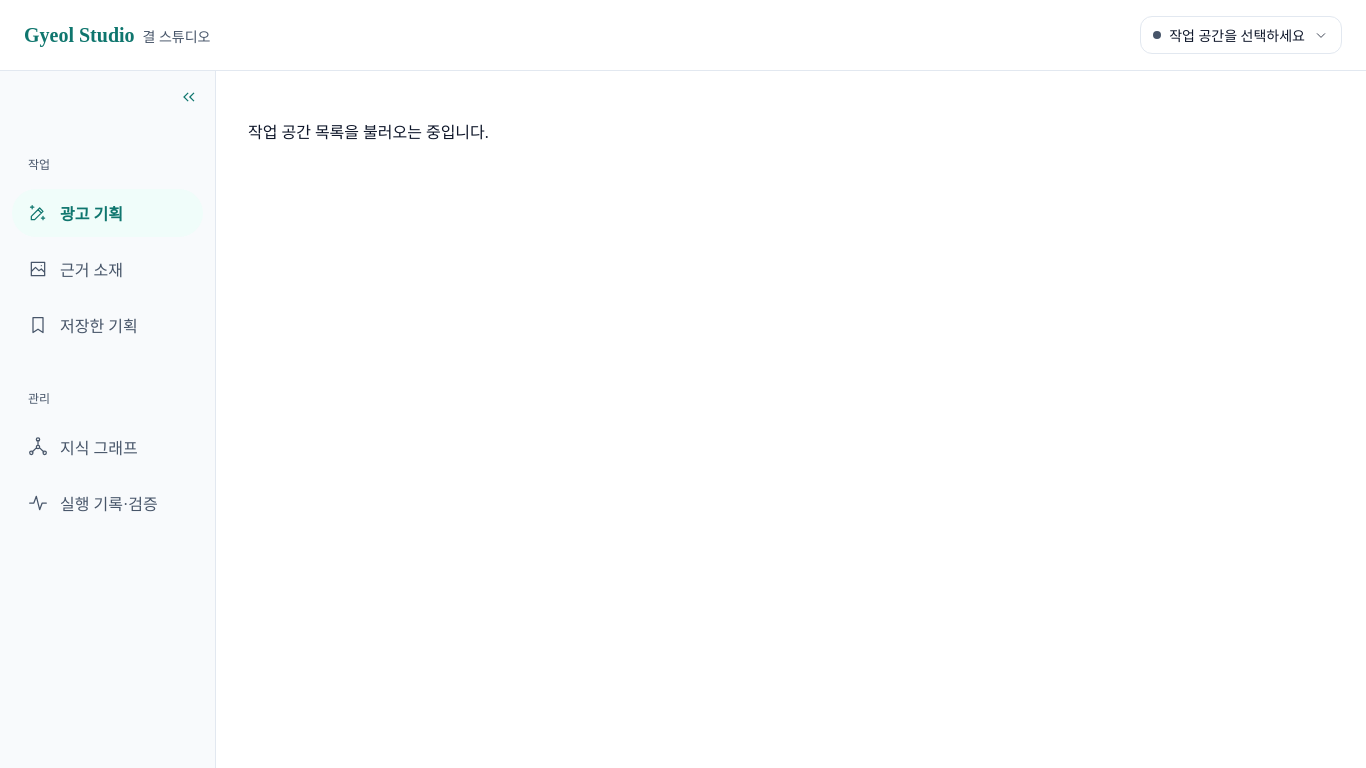
Test: loads workspace metadata with no headers and renders API failure
Later steps or results of the test are not shown.
Click the button "작업 공간을 선택하세요".
click(1241, 35)  # box [1140,16,1342,54]
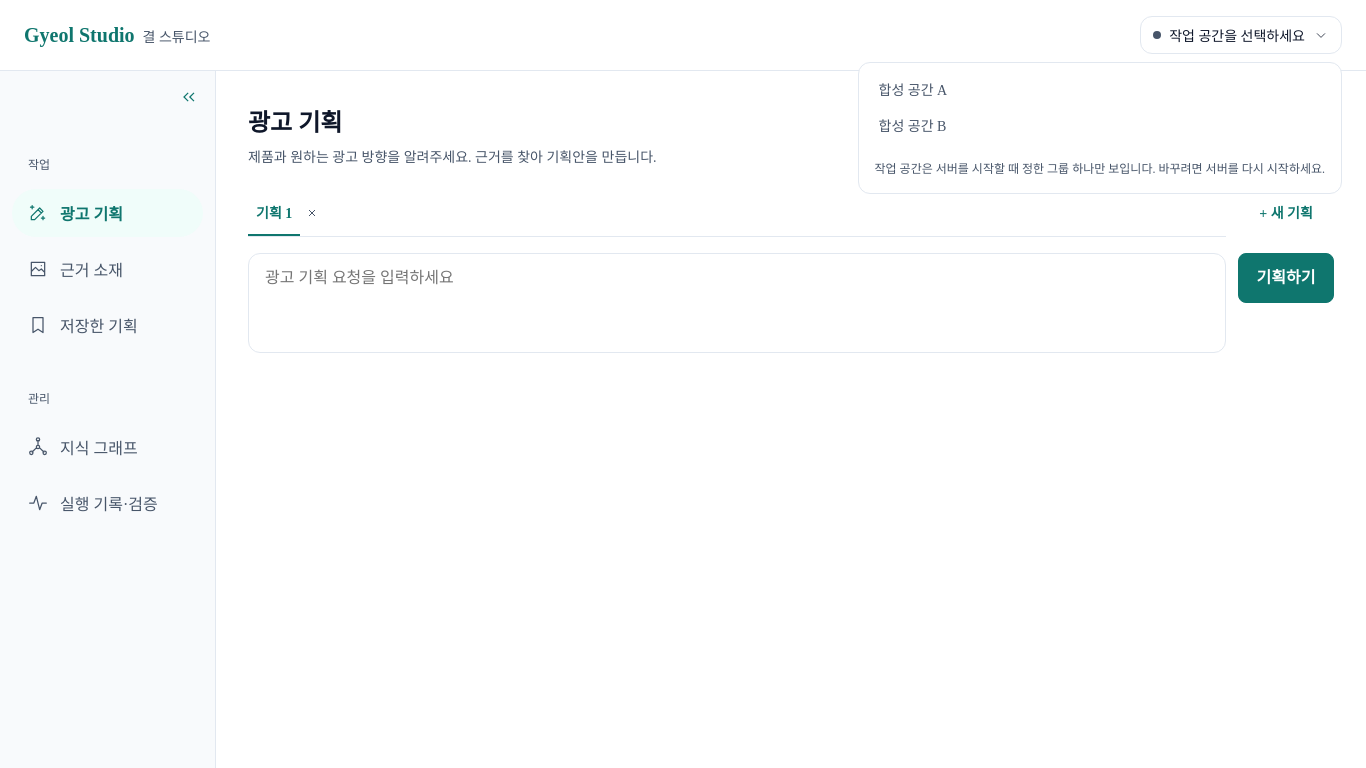
Expected: the option "합성 공간 A" is shown, [878,83,947,98]
